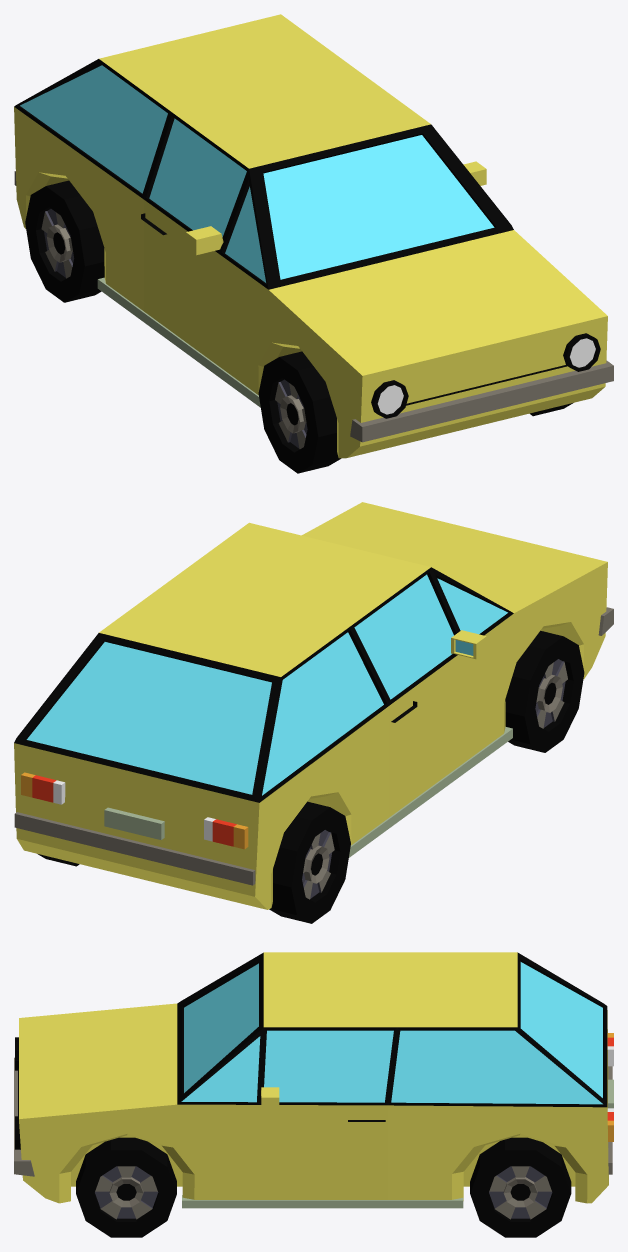
The model's file is CarGolf1.fbx.
The picture shows the model from 3 angles, top to bottom: view 1: azimuth 30°, elevation 25°; view 2: azimuth 150°, elevation 25°; view 3: azimuth 270°, elevation 25°; orthographic projection. The views are drawn at different scales.
Parts seen in each view (by area): view 1: Golf1; view 2: Golf1; view 3: Golf1.
Boxes of the visible parts, x1,y1,x2,y2 form: Golf1: (14, 14, 613, 473); Golf1: (14, 502, 613, 923); Golf1: (14, 952, 613, 1237).
Bounding box in the file's own units: 236 × 178 × 501.
